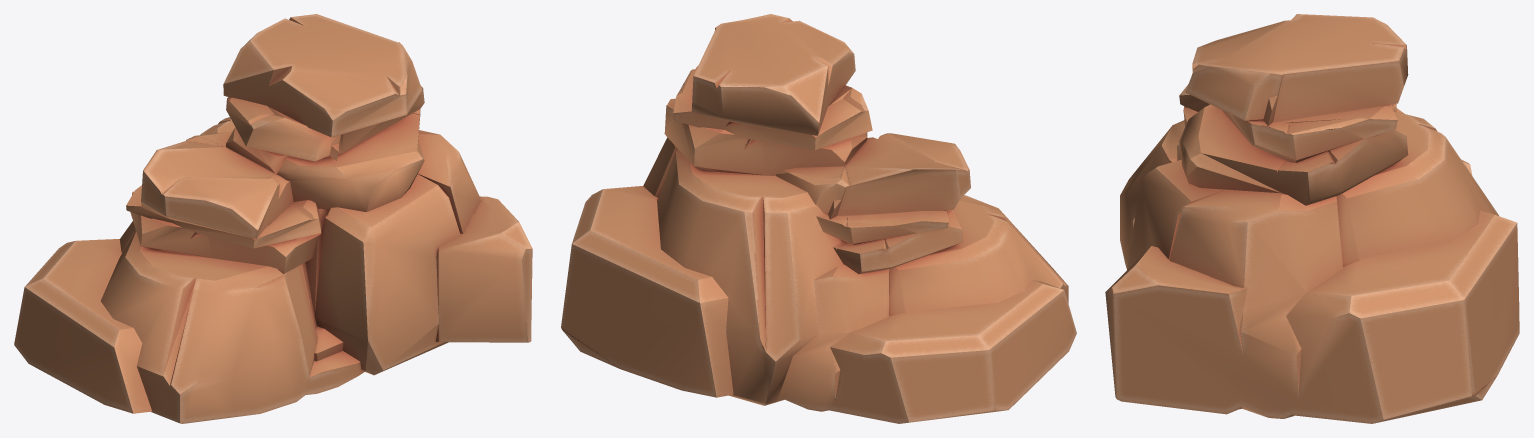
File: rock.dae
The picture shows the model from 3 angles, left to right: view 1: azimuth 30°, elevation 25°; view 2: azimuth 150°, elevation 25°; view 3: azimuth 270°, elevation 25°; orthographic projection. The views are drawn at different scales.
Parts seen in each view (by area): view 1: Rock_3; view 2: Rock_3; view 3: Rock_3.
Part boxes in pixels (x1,y1,x2,y2): Rock_3: (14, 14, 532, 423); Rock_3: (561, 14, 1076, 423); Rock_3: (1105, 14, 1519, 423).
Size of the model in its own units: 16.68 by 12.38 by 10.27.
1 material, 1 textured.
